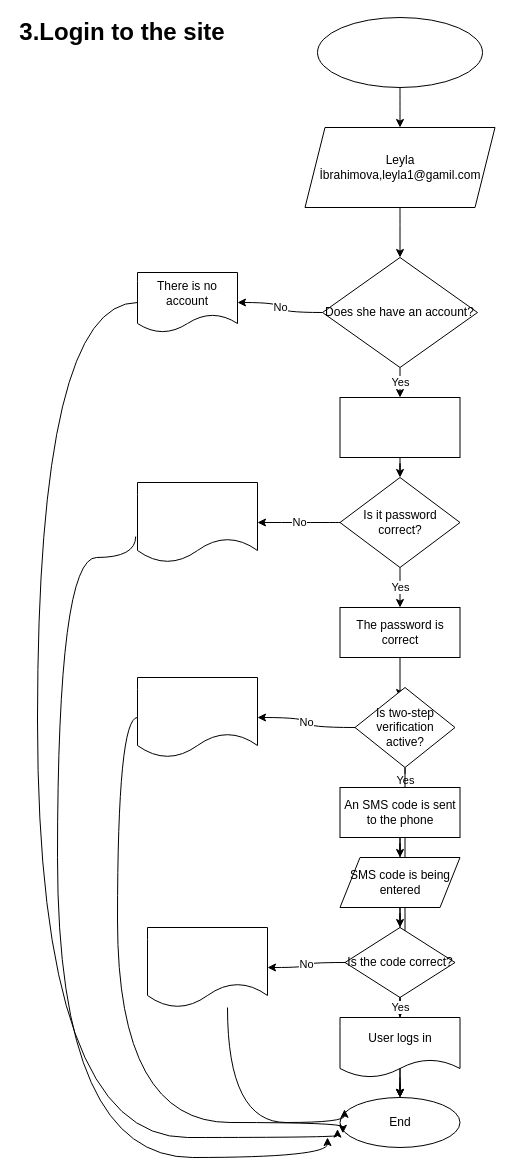
The diagram is 512 pixels wide and 1175 high, and some of its shapes have lost their labels. The box of each missing label's shape, as (x1, y1, x2, y2) in pixels:
Start: (316, 16, 482, 88)
The code is incorrect: (146, 926, 268, 1008)
The password is incorrect: (136, 482, 258, 562)
The user logs in: (136, 676, 258, 758)
There is an account: (339, 396, 460, 458)
